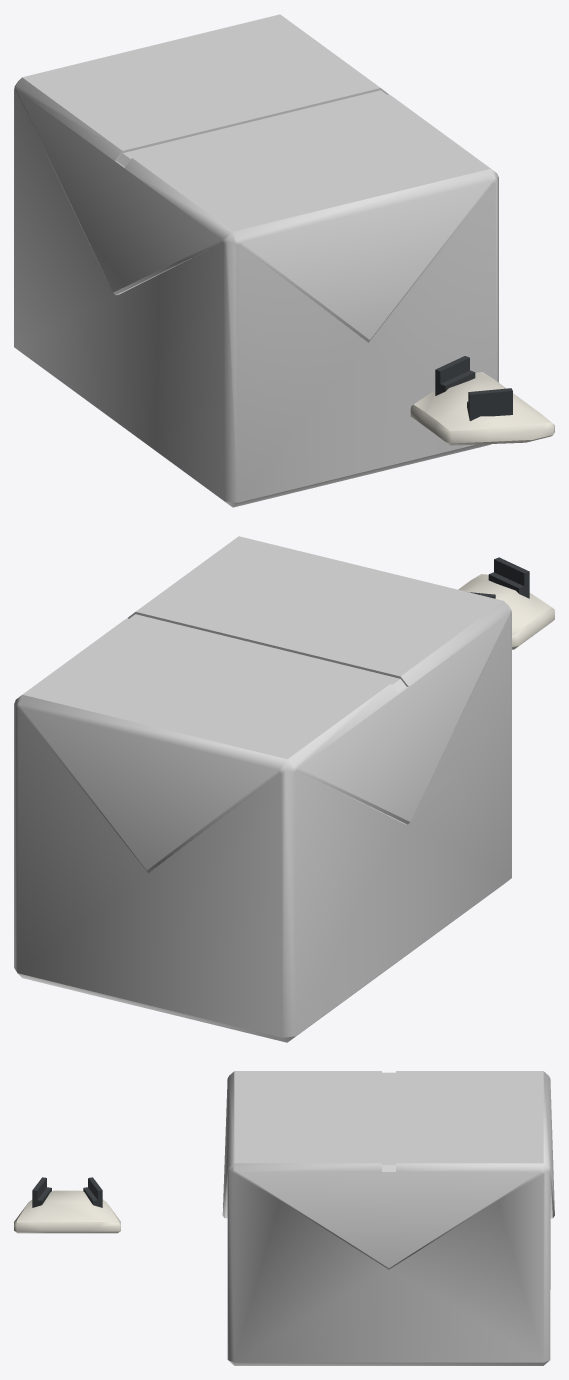
Rendered from KoliveMover.fbx.
The picture shows the model from 3 angles, top to bottom: view 1: azimuth 30°, elevation 25°; view 2: azimuth 150°, elevation 25°; view 3: azimuth 270°, elevation 25°; orthographic projection. The views are drawn at different scales.
Visible parts, largest first — view 1: Koli, MoverObject; view 2: Koli, MoverObject; view 3: Koli, MoverObject.
Boxes of the visible parts, x1,y1,x2,y2 form: Koli: [14, 14, 498, 507]; MoverObject: [410, 356, 554, 445]; Koli: [14, 536, 511, 1042]; MoverObject: [458, 557, 554, 649]; Koli: [222, 1071, 554, 1365]; MoverObject: [14, 1177, 120, 1233].
Bounding box in the file's own units: 152 × 138 × 335.
